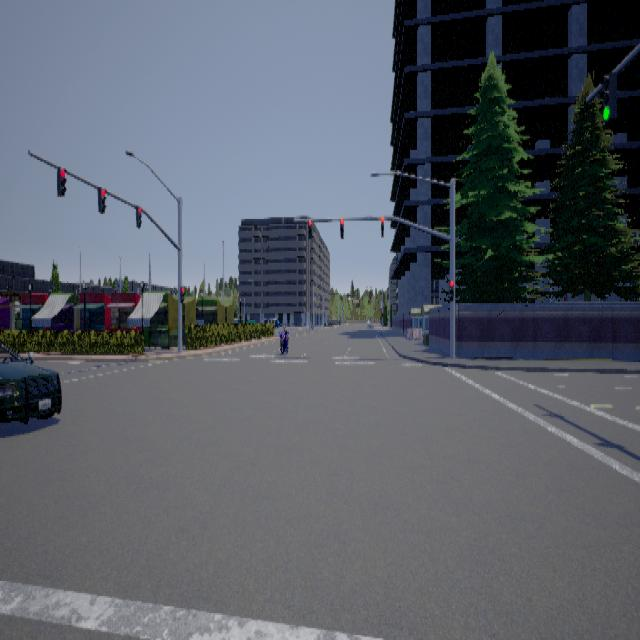green_light: (599, 71, 616, 121)
motobike: (276, 322, 289, 355)
red_light: (56, 165, 66, 195), (97, 185, 106, 212), (135, 204, 141, 227), (448, 280, 454, 300), (339, 218, 344, 238), (308, 220, 312, 238), (180, 286, 184, 302), (381, 216, 384, 236)
vehicle: (0, 342, 61, 423)
